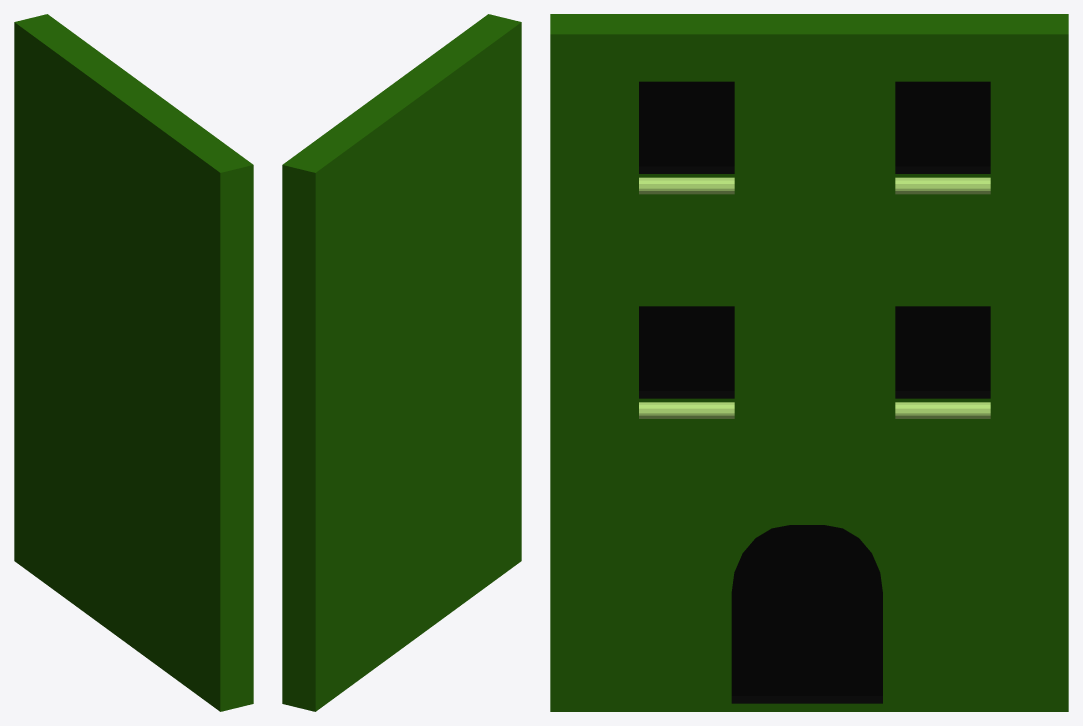
Rendered from Building4.fbx.
3 views of the same model, side by side, from view 1: azimuth 30°, elevation 25°; view 2: azimuth 150°, elevation 25°; view 3: azimuth 270°, elevation 25° (orthographic). The views are drawn at different scales.
Parts seen in each view (by area): view 1: Building01; view 2: Building01; view 3: Building01.
Part boxes in pixels (<box>): Building01: <box>14,14,253,711</box>; Building01: <box>282,14,521,711</box>; Building01: <box>550,14,1068,711</box>.
Size of the model in its own units: 6.68 by 81.5 by 56.49.
